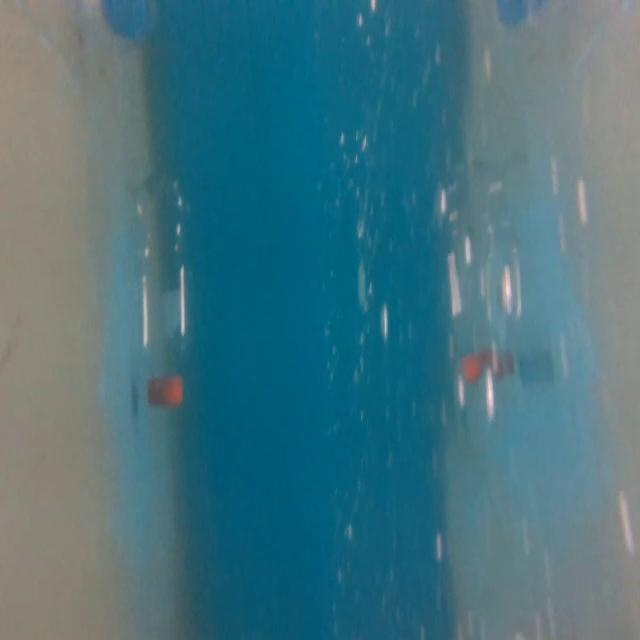plastic bottle: (132, 169, 212, 408)
